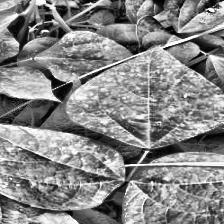Bean Rust: (64, 42, 224, 146), (0, 111, 122, 214), (121, 150, 224, 224), (0, 155, 81, 224)
